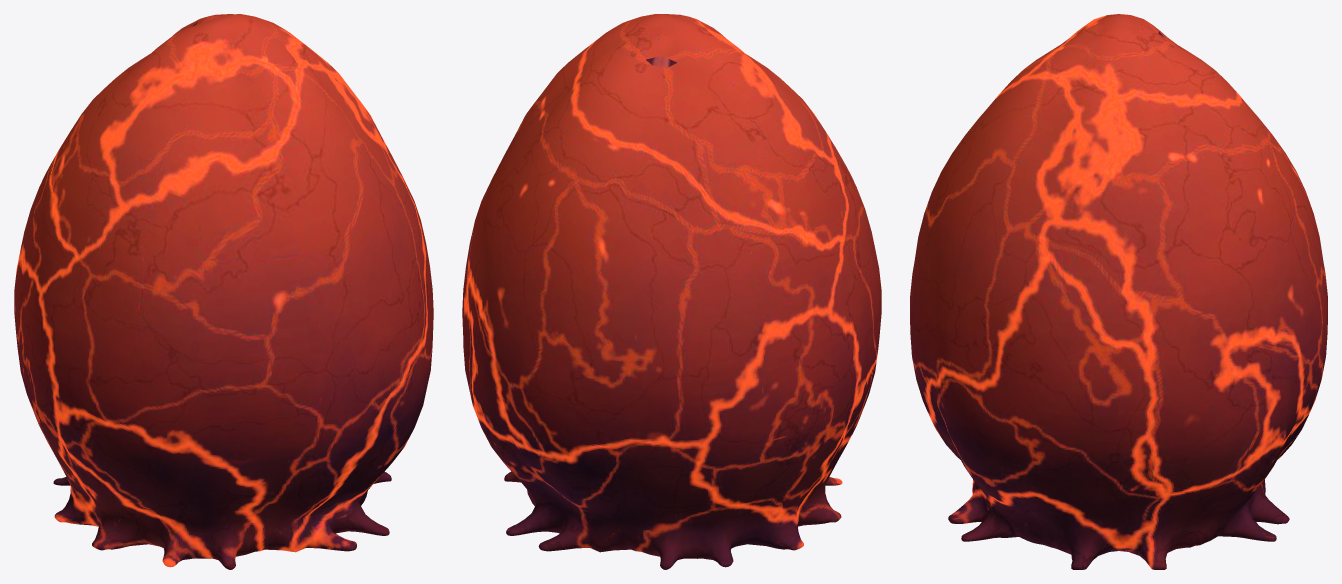
Rendered from egg.glb.
3 renders of one model, left to right at view 1: azimuth 30°, elevation 25°; view 2: azimuth 150°, elevation 25°; view 3: azimuth 270°, elevation 25°, orthographic.
Visible parts, largest first — view 1: Egg; view 2: Egg; view 3: Egg.
Part boxes in pixels (x1,y1,x2,y2): Egg: (14, 14, 433, 569); Egg: (462, 14, 881, 569); Egg: (910, 14, 1327, 569).
Bounding box in the file's own units: 0.772 × 0.9931 × 0.7698.
Materials: 1 (1 with a texture image).
